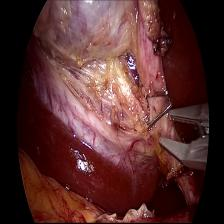Clipper: (158, 100, 216, 174)
